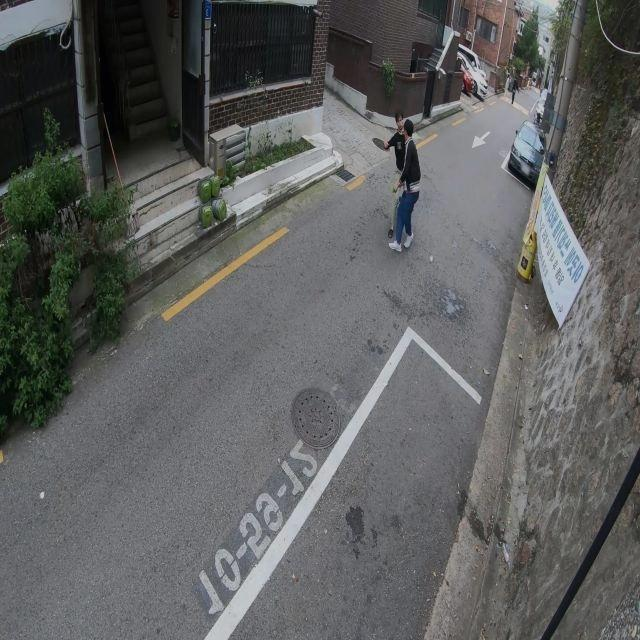fight: (383, 109, 421, 252)
